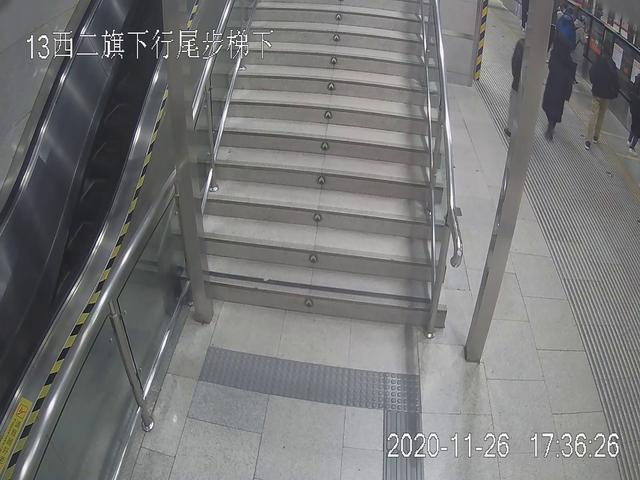person: (544, 33, 576, 143), (587, 36, 617, 146)
